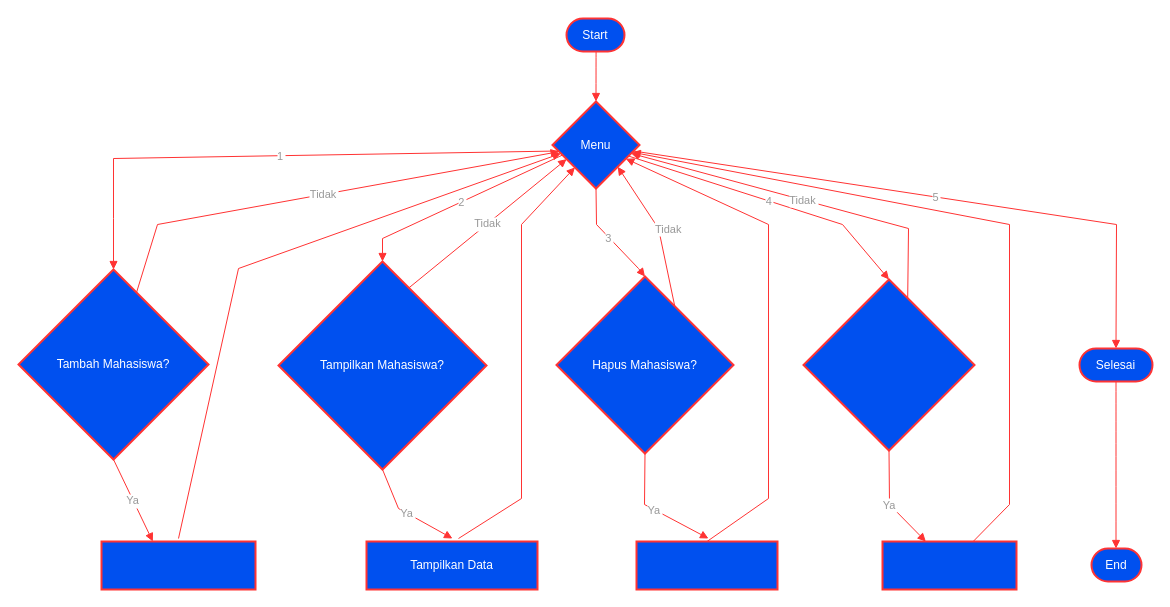
Image size: 1170x607. Some labels were removed from this diagram. The centre of each missing label's shape, as x and y in pixels:
Hapus Data: [706,565]
Tambah Data: [178,565]
Ubah Data: [949,565]
Ubah Mahasiswa?: [888,364]
